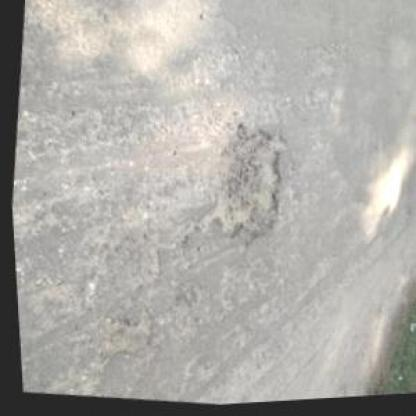pothole: (192, 118, 292, 252), (93, 311, 150, 362)
